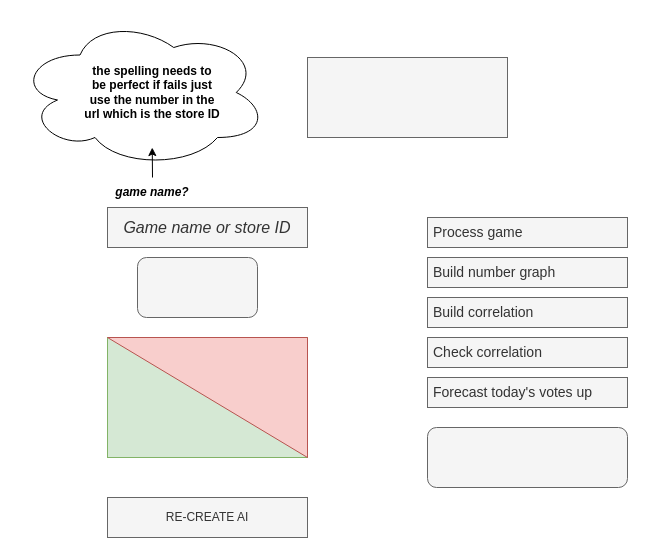
The diagram is 645 pixels wide and 555 high, and some of its shapes have lost their labels. The box of each missing label's shape, as (x1, y1, x2, y2) in pixels:
Check existance: (136, 256, 258, 318)
Forecast: (426, 426, 628, 488)
GaugeDB: (306, 56, 508, 138)
